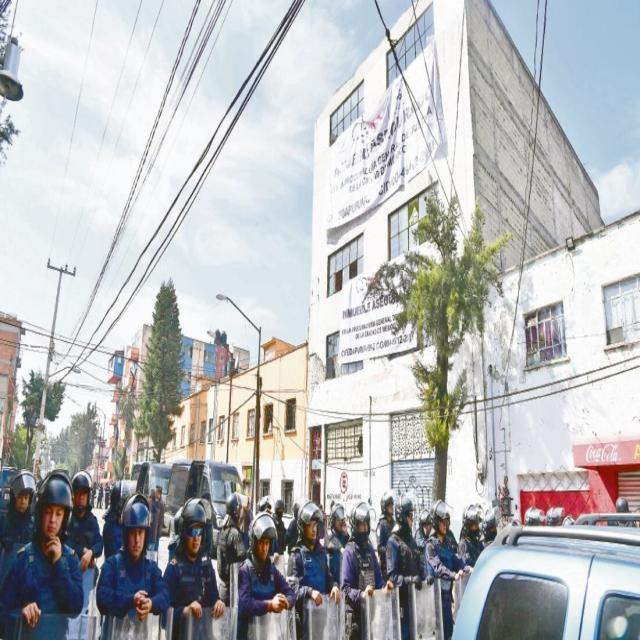stamps: (324, 40, 445, 229), (340, 268, 417, 361)
